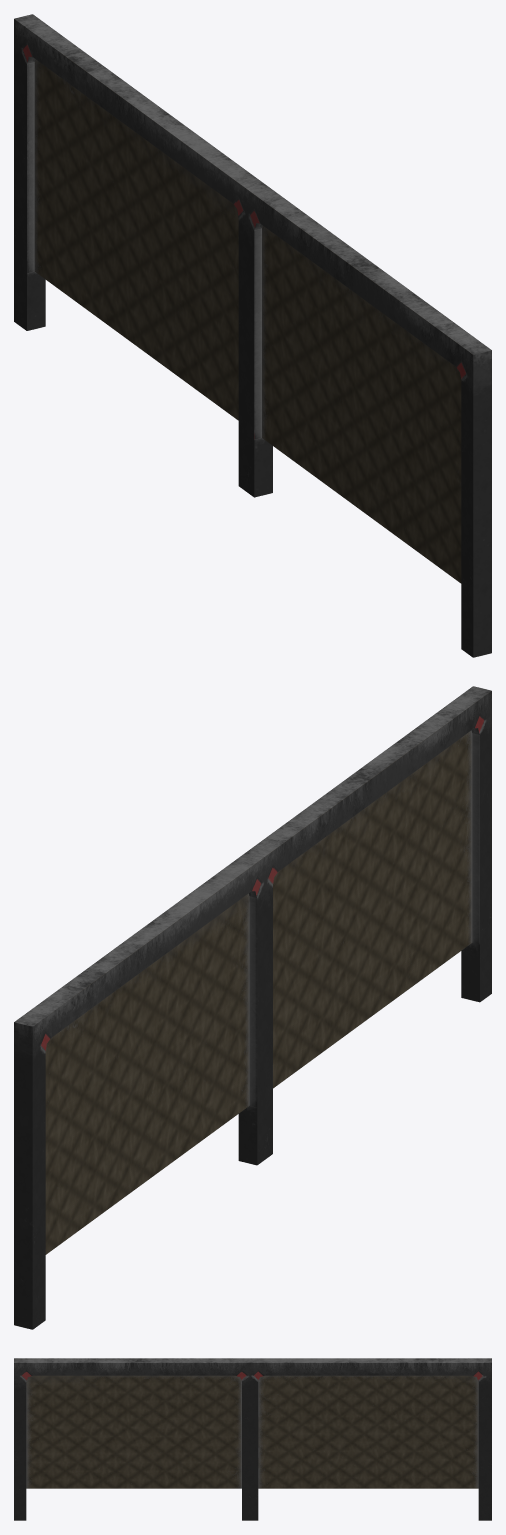
File: cyberpunk_wall.fbx
3 views of the same model, one above another, from view 1: azimuth 30°, elevation 25°; view 2: azimuth 150°, elevation 25°; view 3: azimuth 270°, elevation 25° (orthographic). The views are drawn at different scales.
Parts seen in each view (by area): view 1: Cube; view 2: Cube; view 3: Cube.
Part boxes in pixels (x1,y1,x2,y2): Cube: (14,14,491,657); Cube: (14,686,491,1329); Cube: (14,1358,491,1520).
Bounding box in the file's own units: 3.38 × 52.16 × 143.
Materials: 1 (1 with a texture image).
